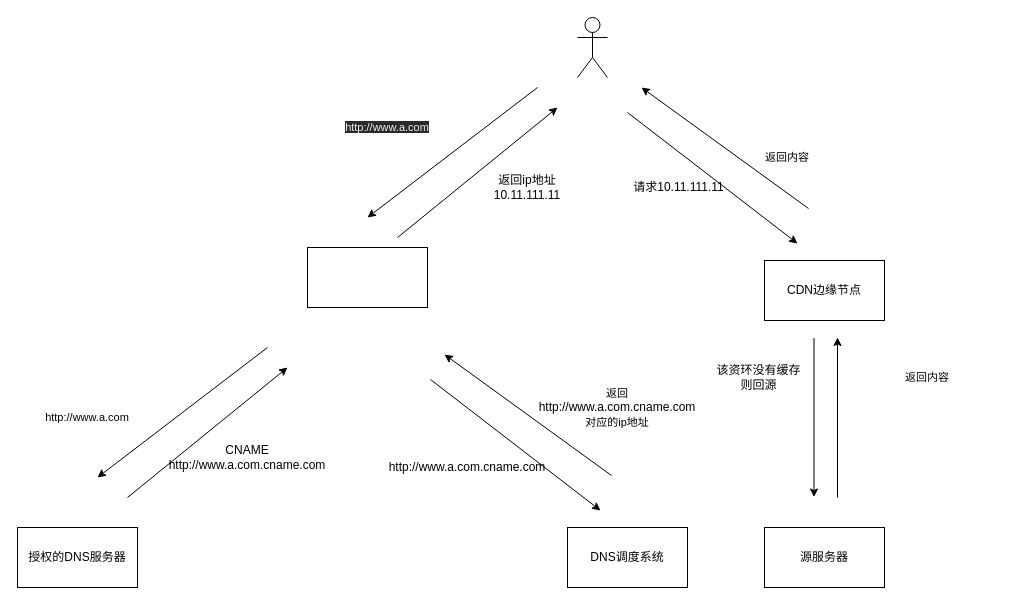
Image size: 1015x605. Some labels were removed from this diagram. The centre of each missing label's shape, as x and y in pixels:
"Actor" belongs at point (592, 47).
"本地DNS服务器" belongs at point (367, 277).
